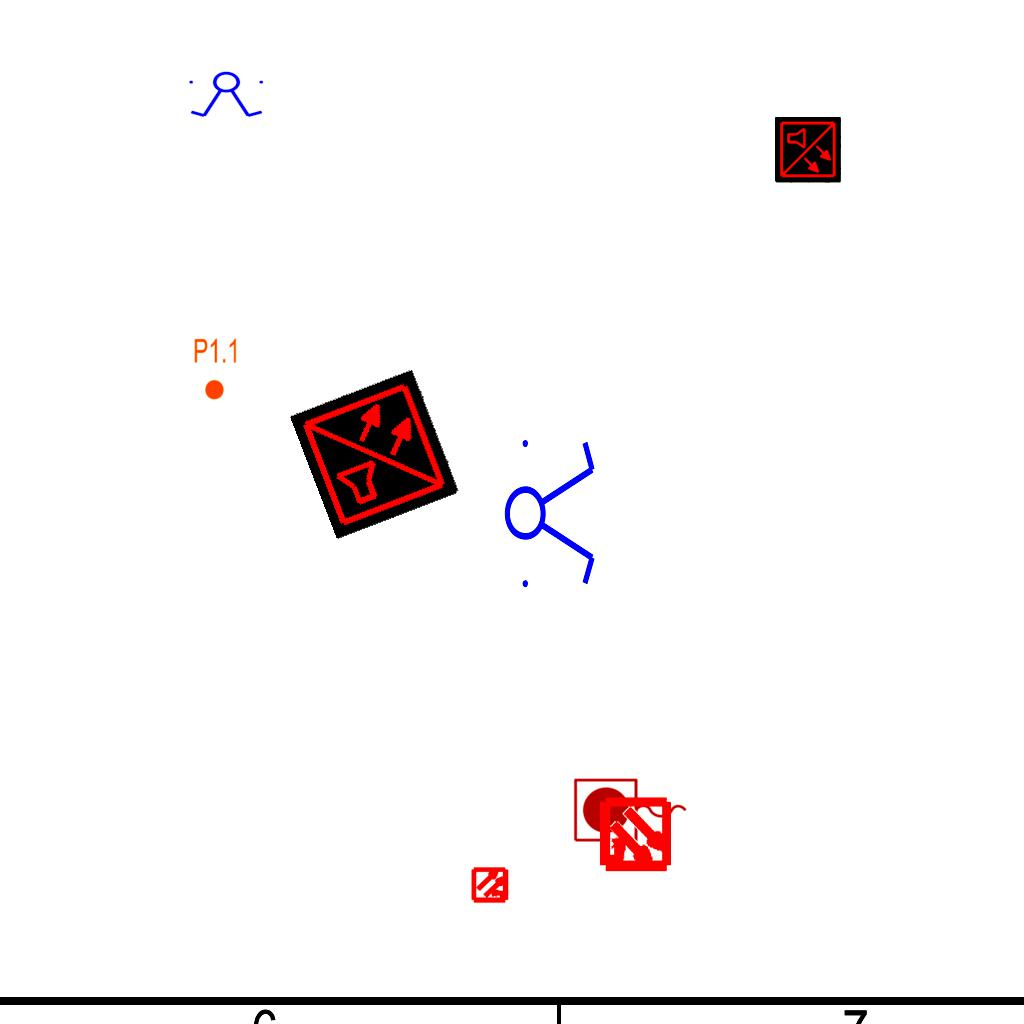Downlight_LED_Einbauleuchten_Flur: (193, 337, 239, 401)
OKW_Multisensormelder_(Kombination_optischer_Rauch-Kahlenmonoxid_Waerme-Melder): (289, 368, 461, 540), (775, 117, 841, 183)
OT_Multisensormelder_(Kombination_RMO_WMD): (579, 780, 692, 893), (463, 857, 519, 913)
Serienschalter: (503, 428, 599, 596), (185, 71, 269, 119)
Zugtaster: (570, 775, 692, 847)
